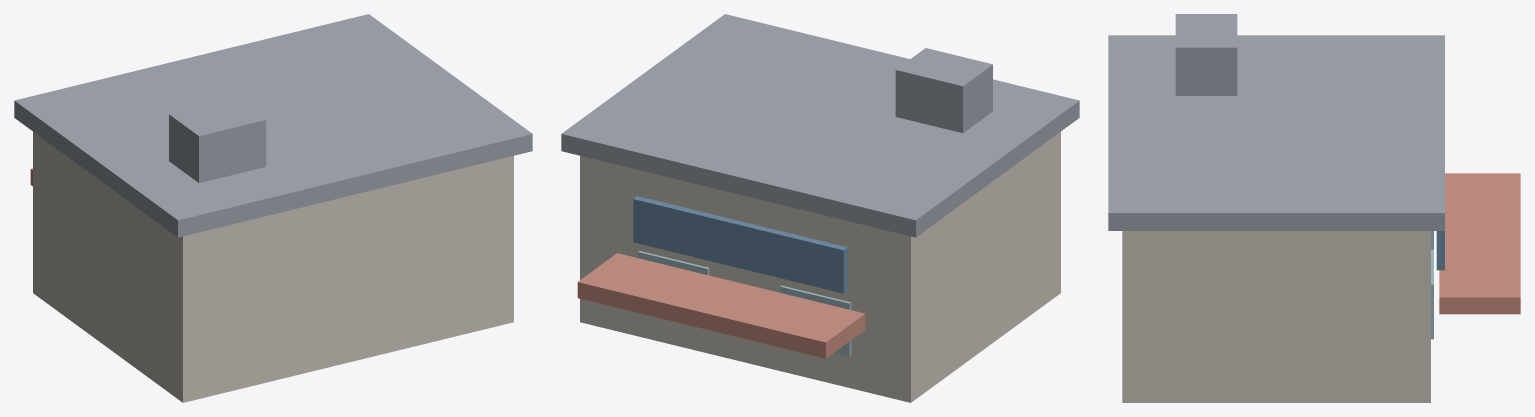
Rendered from building_city.glb.
3 views of the same model, side by side, from view 1: azimuth 30°, elevation 25°; view 2: azimuth 150°, elevation 25°; view 3: azimuth 270°, elevation 25° (orthographic). The views are drawn at different scales.
Parts seen in each view (by area): view 1: 000_shop, 001_roof, 006_vent; view 2: 001_roof, 000_shop, 003_awning, 002_sign, 006_vent, 004_window_-0.6, 005_window_0.6; view 3: 001_roof, 000_shop, 003_awning, 006_vent.
Part boxes in pixels (box(x1,y1,x2,y2)): 000_shop: box(33, 132, 513, 402); 001_roof: box(14, 14, 532, 237); 006_vent: box(169, 98, 266, 183); 001_roof: box(561, 14, 1079, 237); 000_shop: box(580, 132, 1060, 402); 003_awning: box(577, 253, 865, 358); 002_sign: box(633, 196, 847, 293); 006_vent: box(895, 48, 992, 133); 004_window_-0.6: box(780, 285, 851, 356); 005_window_0.6: box(638, 251, 709, 275); 001_roof: box(1108, 35, 1444, 230); 000_shop: box(1122, 231, 1430, 402); 003_awning: box(1439, 173, 1520, 314); 006_vent: box(1175, 14, 1237, 95).
Bounding box in the file's own units: 3 × 1.92 × 2.94.
